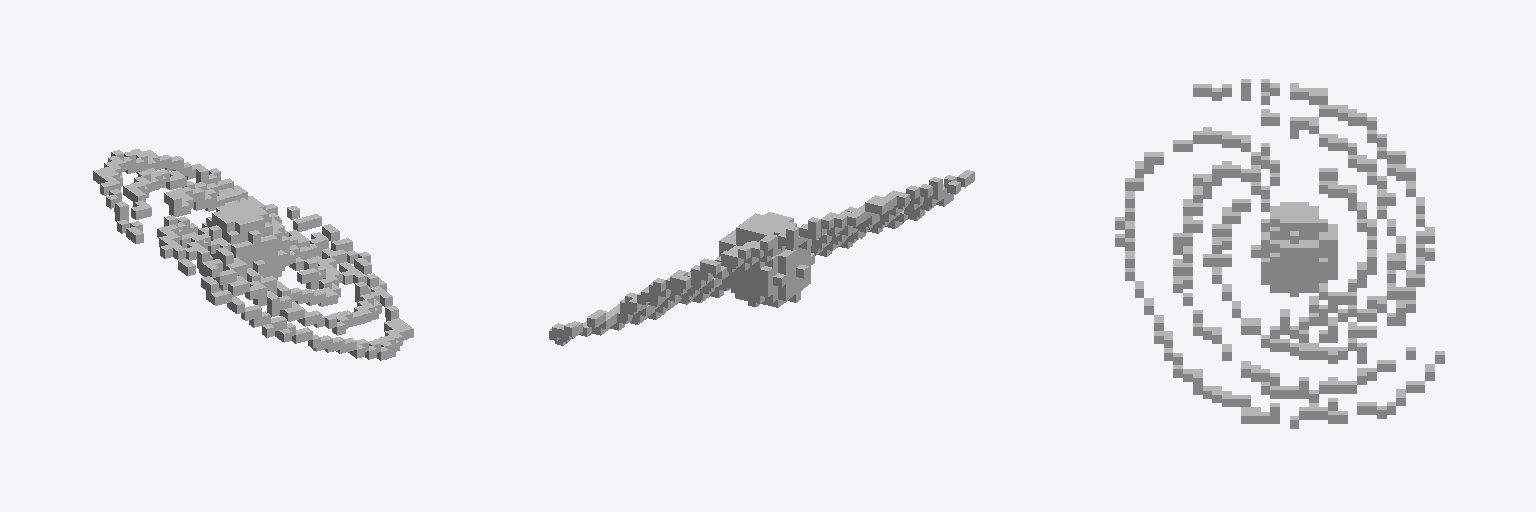
The model's file is black hole.obj.
3 views of the same model, side by side, from view 1: azimuth 30°, elevation 25°; view 2: azimuth 150°, elevation 25°; view 3: azimuth 270°, elevation 25° (orthographic).
Visible parts, largest first — view 1: object 1; view 2: object 1; view 3: object 1.
Part boxes in pixels (x1,y1,x2,y2): object 1: (93,149,413,360); object 1: (549,170,974,345); object 1: (1115,79,1444,428).
Size of the model in its own units: 3.9 by 2.3 by 3.4.